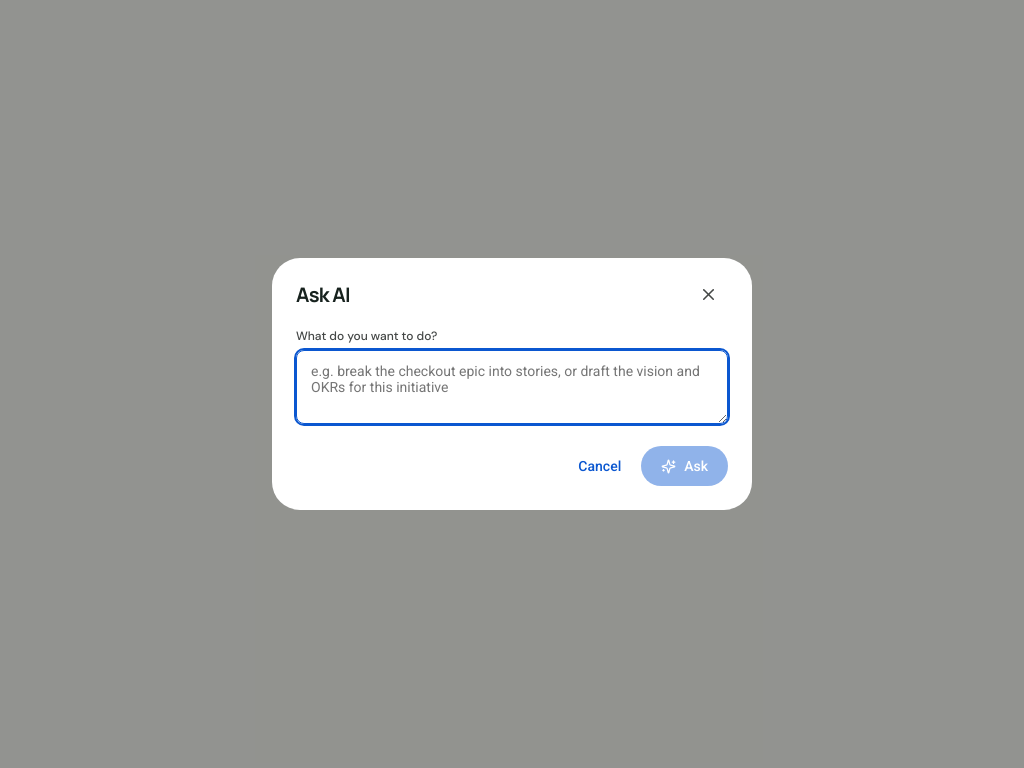
Test case: AskAiDialog › keeps the dialog open and toasts on error
This screenshot has width=1024, height=768.
Step 1. Replace the text in the text box with placeholder "break the checkout epic" with "split the epic" → (512, 387), box [296, 350, 728, 424]
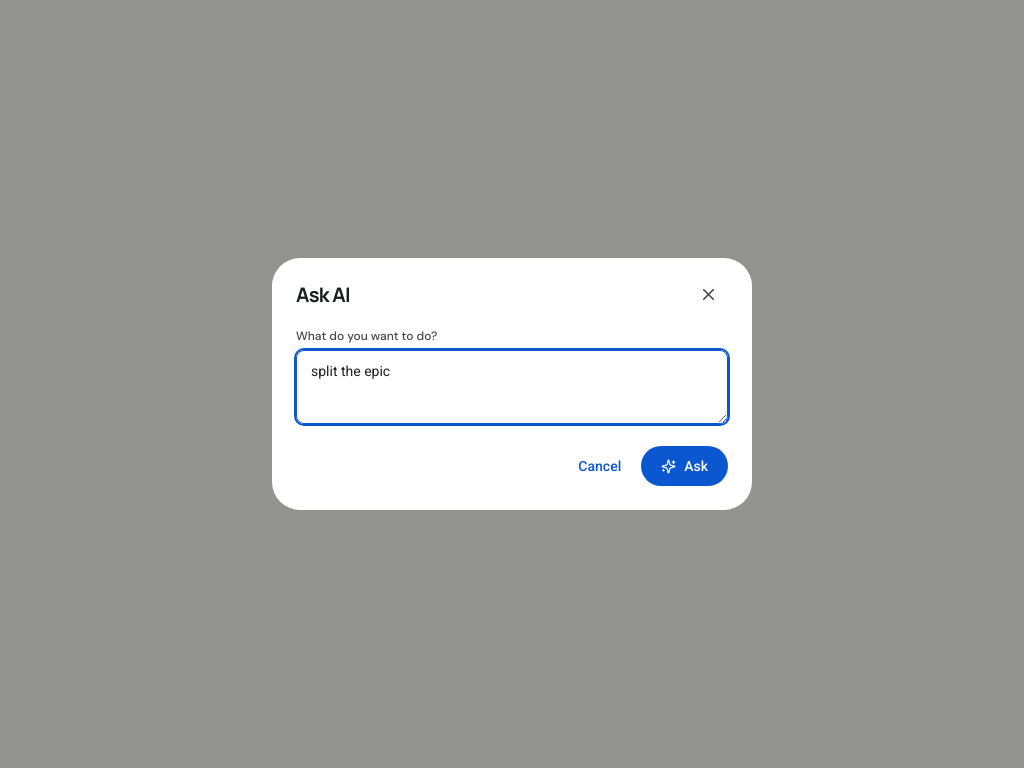
Step 2. Click the button "Ask" → (685, 466), box [641, 446, 728, 486]
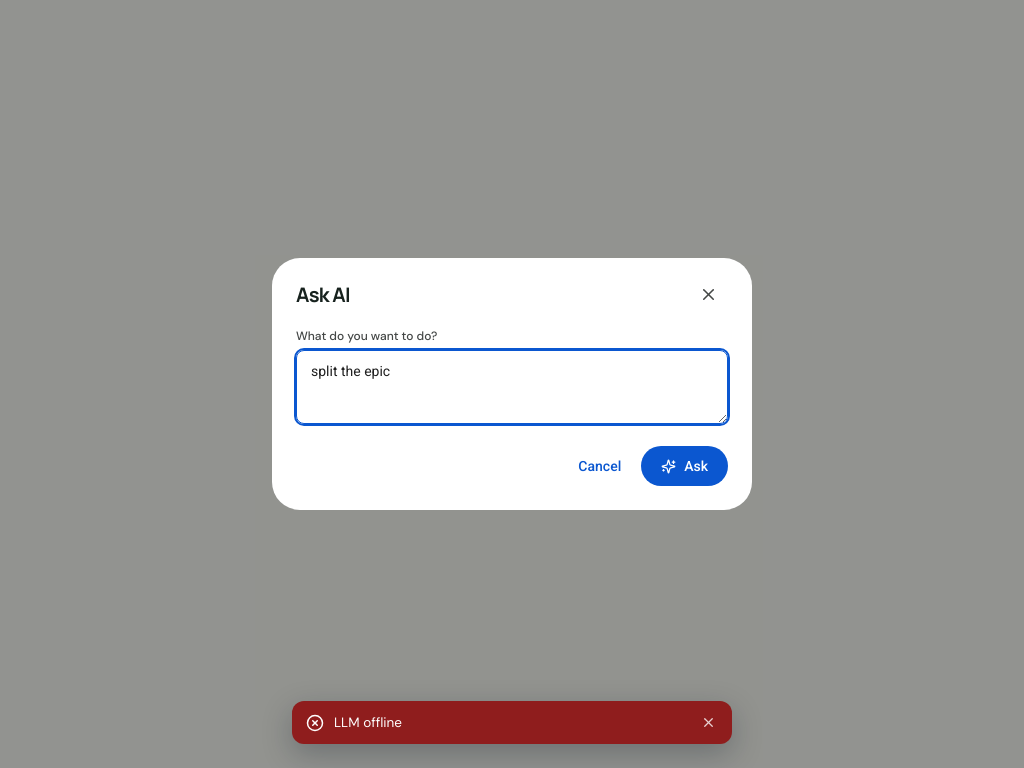
Expected: the dialog "Ask AI" is shown, [272, 258, 752, 510]
Result: the text "LLM offline" is shown at [334, 714, 402, 731]
